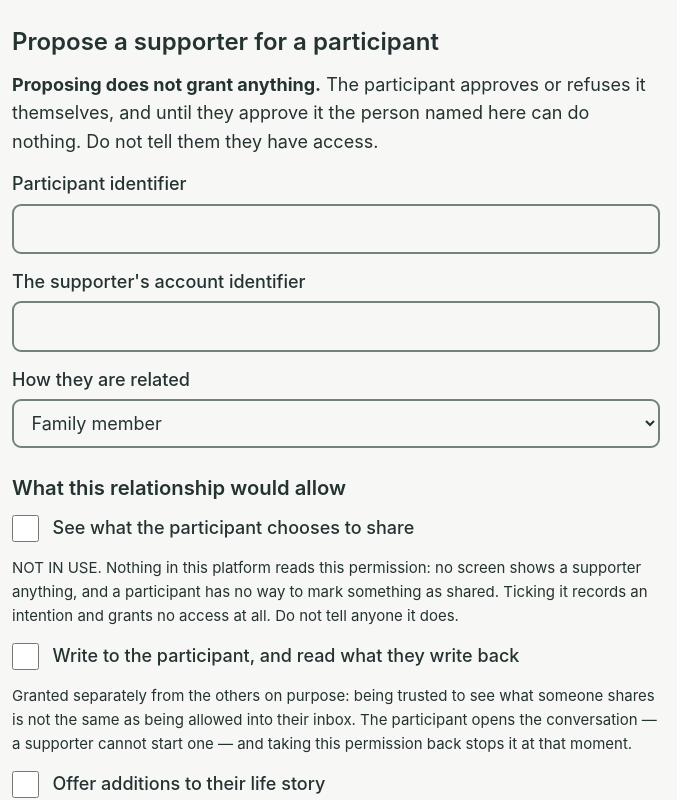
Test: proposing a supporter › says the sharing permission does nothing, and does not tick it by default
Expected: the checkbox labelled "See what the participant chooses to share" is not checked, 12,515 -> 39,542
Expected: the text "grants no access at all" is shown, 12,558 -> 648,626
# Choosing only that one is called out where the choice is made.
Type "pt_a" into the field labelled "Participant identifier" at (336, 229), box 12,204 -> 660,254
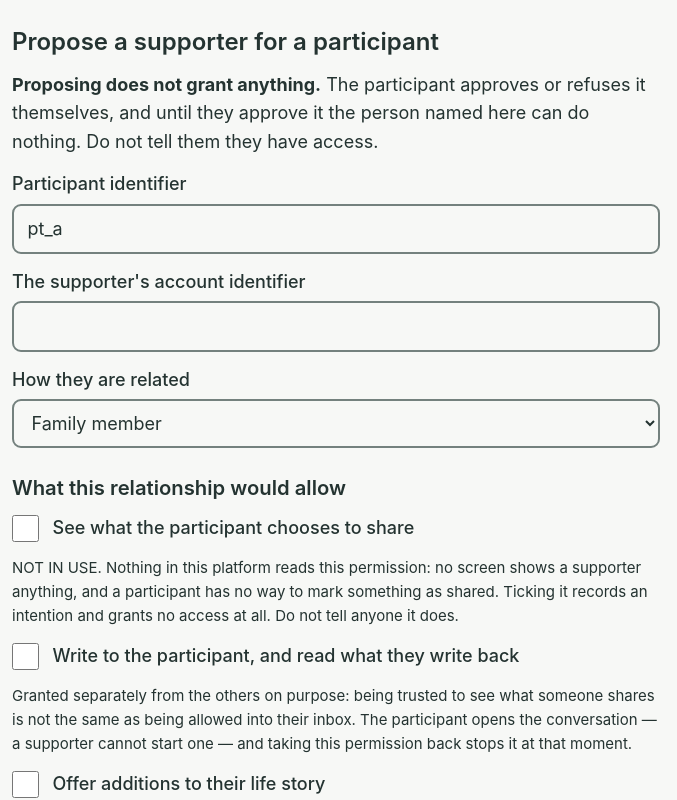
Type "actor_s" into the field labelled "The supporter's account identifier" at (336, 327), box 12,301 -> 660,352
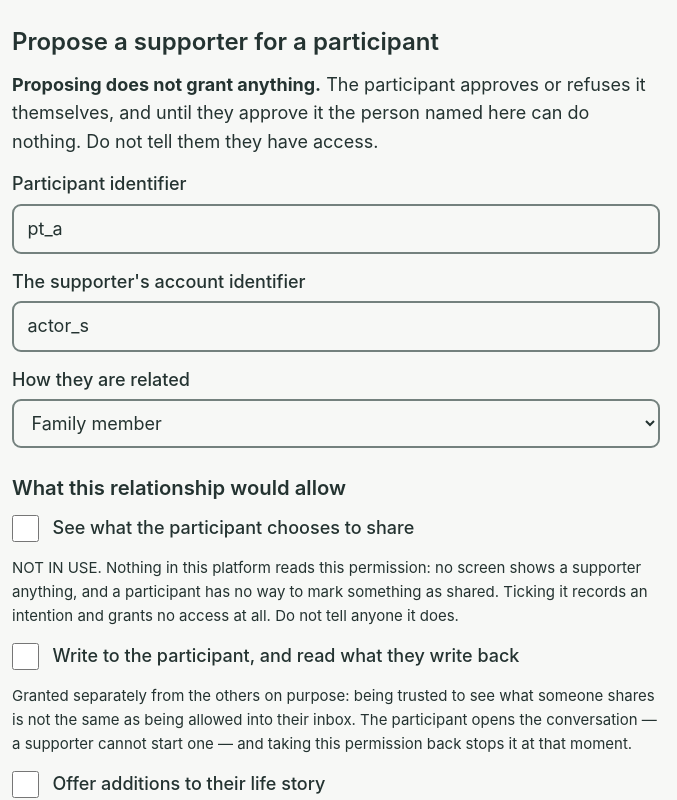
Click the checkbox labelled "See what the participant chooses to share" at (26, 529), box 12,515 -> 39,542
(page scrolled)
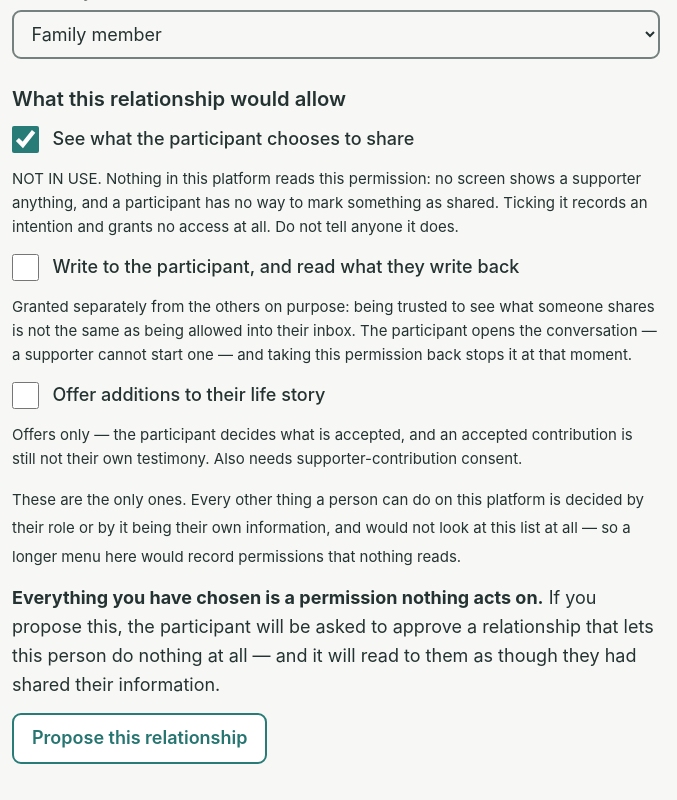
Now the text "Everything you have chosen is a permission nothing acts on." is shown, box 12,588 -> 544,608
